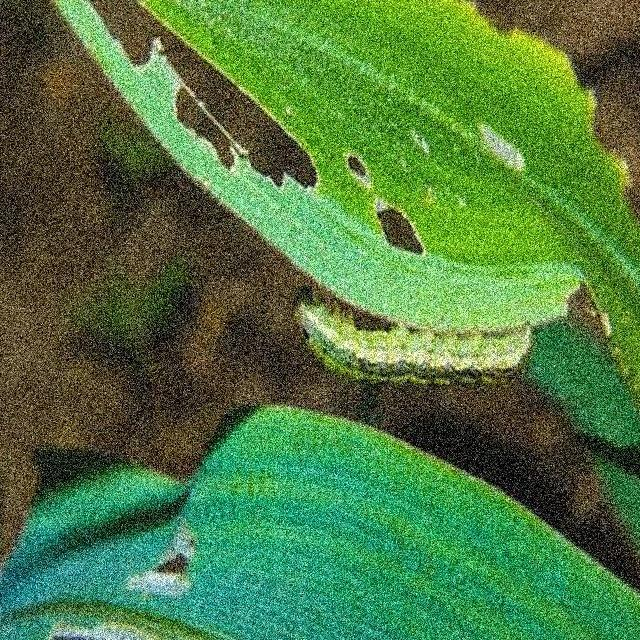Plaga: (278, 283, 542, 392)
